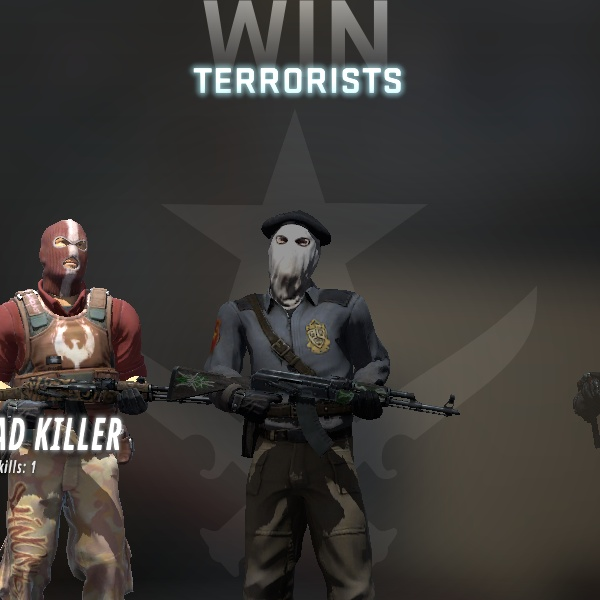ct_body: (168, 142, 425, 600)
t_body: (0, 196, 187, 600)
t_head: (13, 206, 112, 315)
